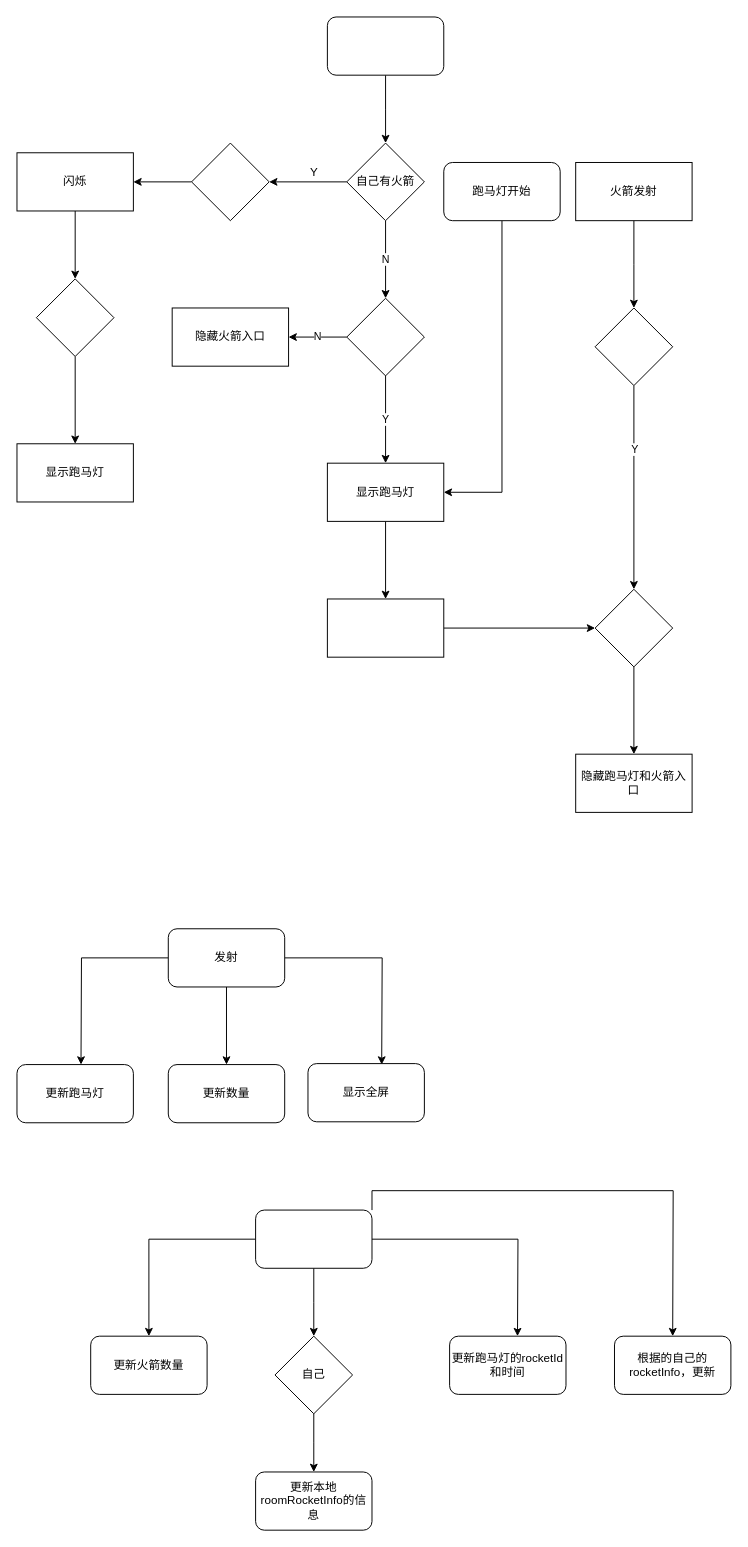
The diagram is 748 pixels wide and 1547 high, and some of its shapes have lost their labels. The shapes that lost their labels are listed below. From the top down, each one's box as (x1, y1, x2, y2) in pixels, then its label:
(326, 16, 444, 75): 进房
(191, 142, 269, 221): 倒计时小于5分钟
(35, 278, 114, 356): 小于三分钟
(346, 297, 424, 376): 跑马灯倒计时不为0
(594, 307, 673, 386): 跑马灯的uid
(326, 598, 444, 657): 开启倒计时
(594, 588, 673, 667): 结束
(255, 1209, 372, 1268): 获得
